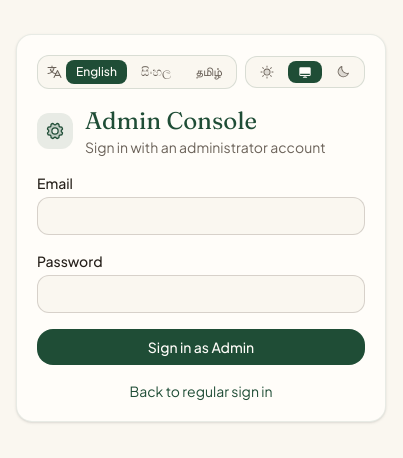
AdminLoginPage › shows a credential error on 401
This screenshot has width=403, height=458.
Type "admin@agrilink.lk" into the field labelled "Email" at (201, 216), box [37,197,365,235]
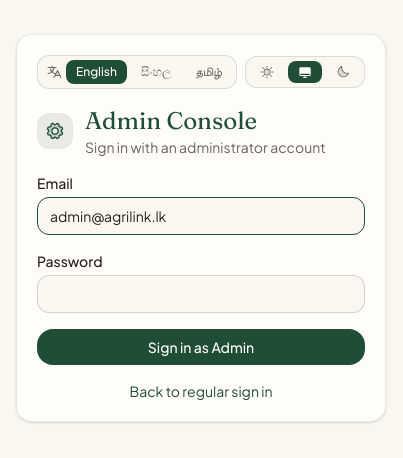
Type "wrong-password" into the password field labelled "Password" at (201, 294), box [37,275,365,313]
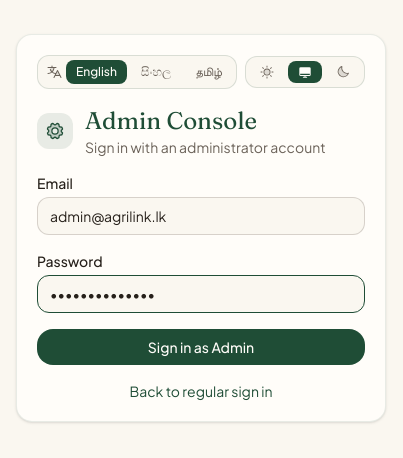
Click the button "Sign in as Admin" at (201, 347), box [37,329,365,365]
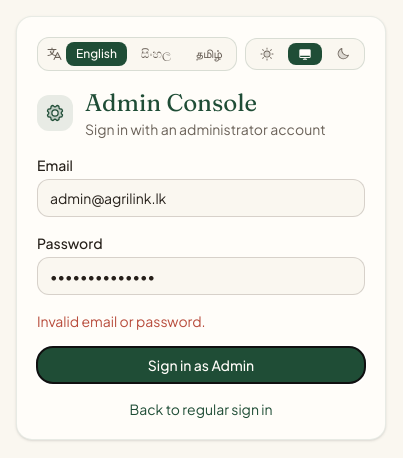
Now the text "Invalid email or password." is shown, box [37,312,206,330]
